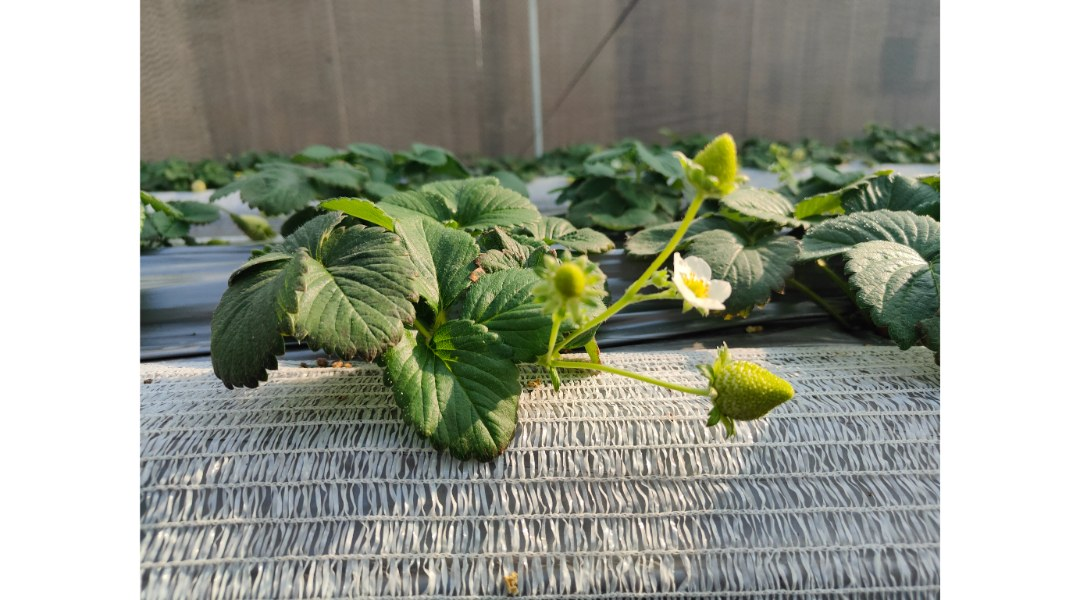berry: (692, 345, 792, 445), (533, 245, 609, 325), (668, 122, 747, 196)
flower: (661, 255, 745, 322)
strain: (566, 352, 703, 409), (641, 200, 703, 285)
